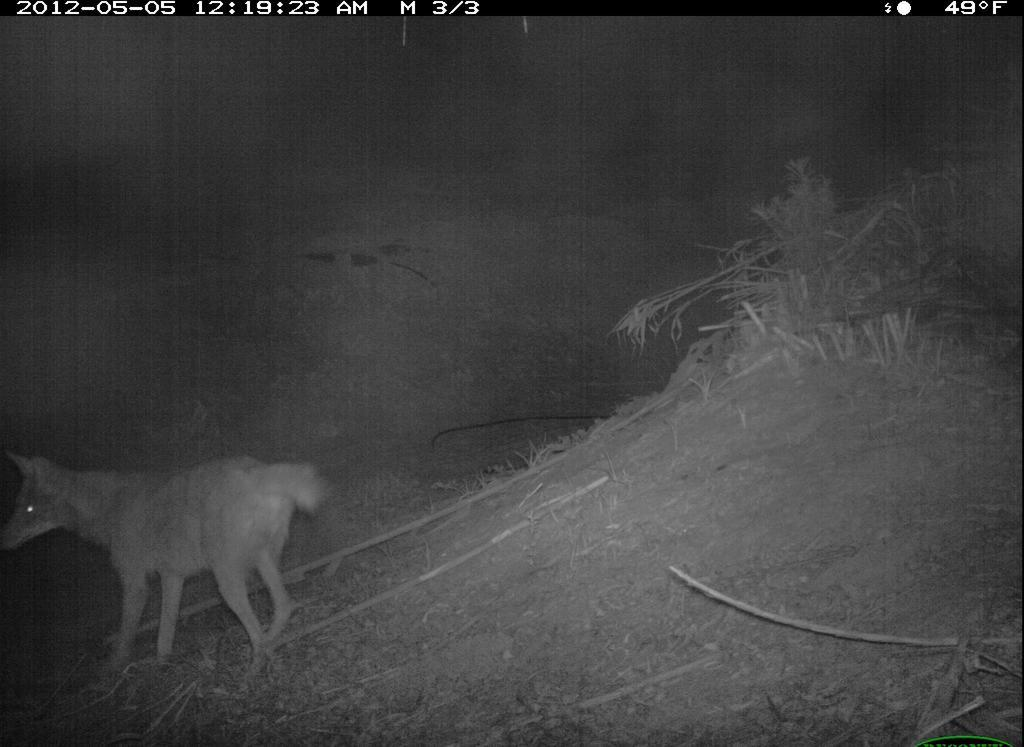coyote: (6, 438, 340, 685)
